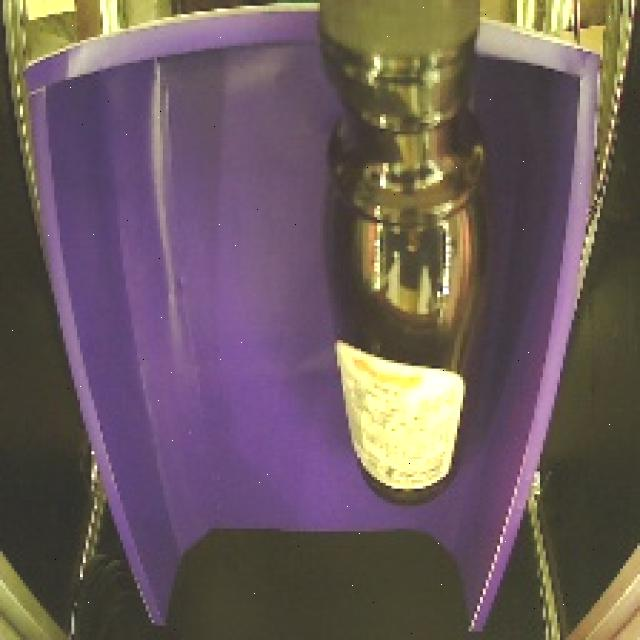plastic: (300, 1, 521, 520)
